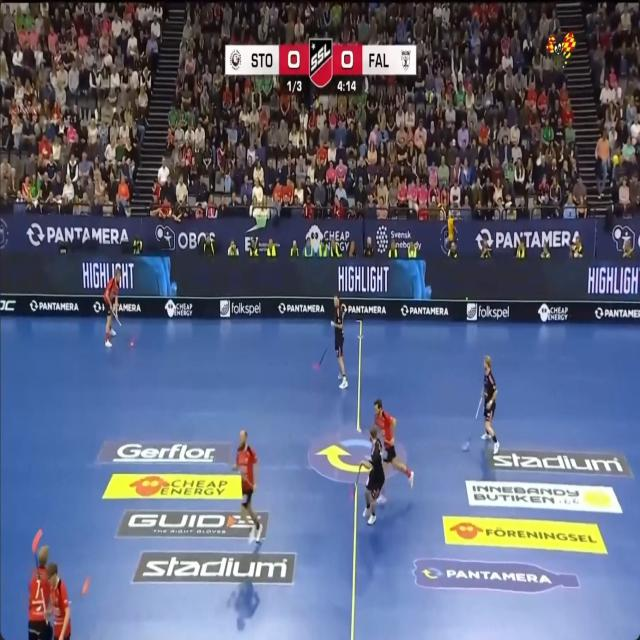Balls: (129, 339, 133, 347)
player: (374, 399, 413, 486), (233, 429, 261, 542), (361, 426, 384, 525), (28, 546, 52, 639), (47, 562, 71, 639), (482, 355, 499, 453), (331, 295, 348, 387), (103, 267, 121, 347), (378, 494, 385, 502)
stick: (31, 529, 42, 566), (355, 463, 364, 490), (475, 394, 483, 419), (462, 431, 472, 450), (318, 348, 327, 366), (81, 577, 90, 595), (40, 591, 47, 614), (114, 314, 121, 326)
